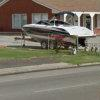Boat: (16, 16, 95, 52)
